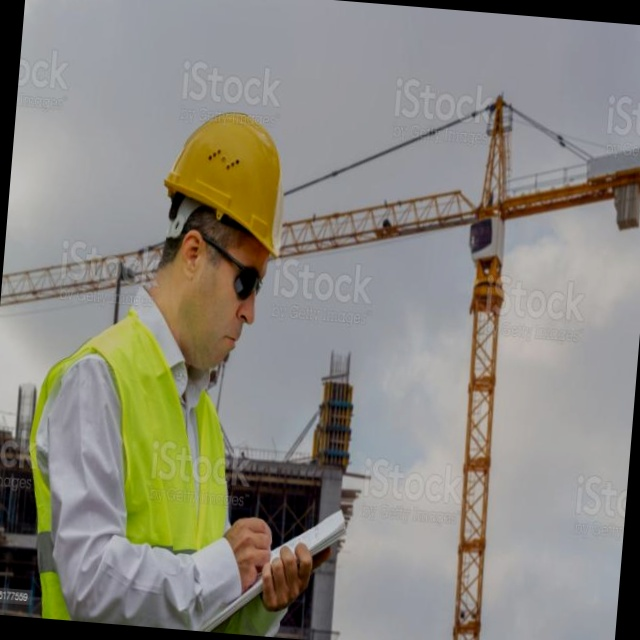goggles: (191, 236, 264, 316)
helmet: (144, 108, 288, 272)
vest: (26, 306, 322, 640)
